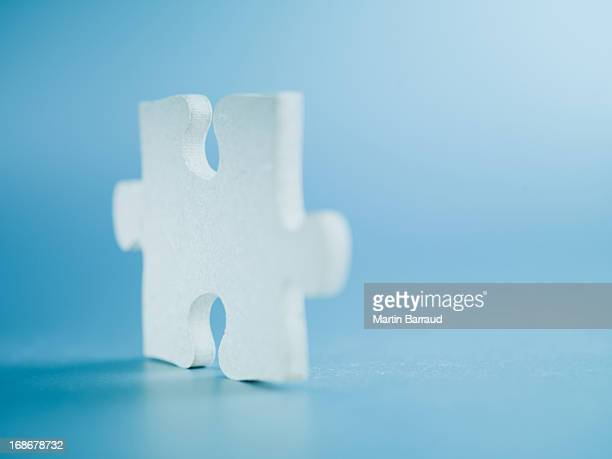puzzle piece: (100, 84, 363, 395)
